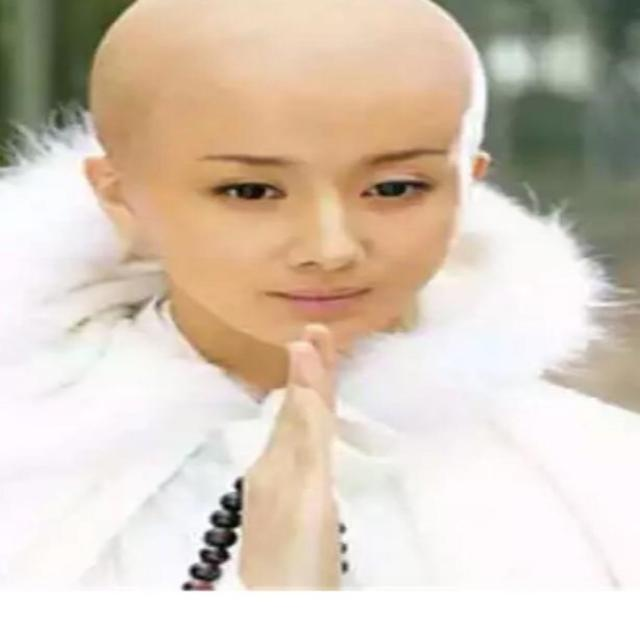no_helmet: (8, 0, 519, 168)
